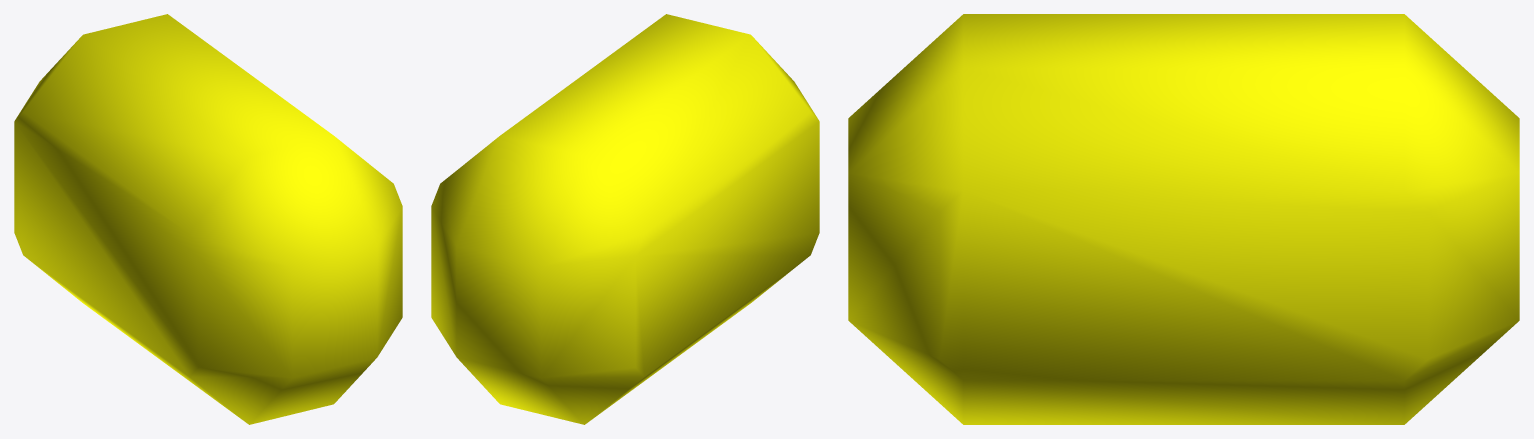
File: wrist_spherical_2.bbox.gltf
3 views of the same model, side by side, from view 1: azimuth 30°, elevation 25°; view 2: azimuth 150°, elevation 25°; view 3: azimuth 270°, elevation 25° (orthographic). The views are drawn at different scales.
Visible parts, largest first — view 1: wrist_spherical_2.bbox; view 2: wrist_spherical_2.bbox; view 3: wrist_spherical_2.bbox.
Boxes of the visible parts, bbox=[...] form: wrist_spherical_2.bbox: bbox=[14, 14, 402, 424]; wrist_spherical_2.bbox: bbox=[431, 14, 819, 424]; wrist_spherical_2.bbox: bbox=[848, 14, 1519, 424].
Size of the model in its own units: 0.063 by 0.0791 by 0.1351.
